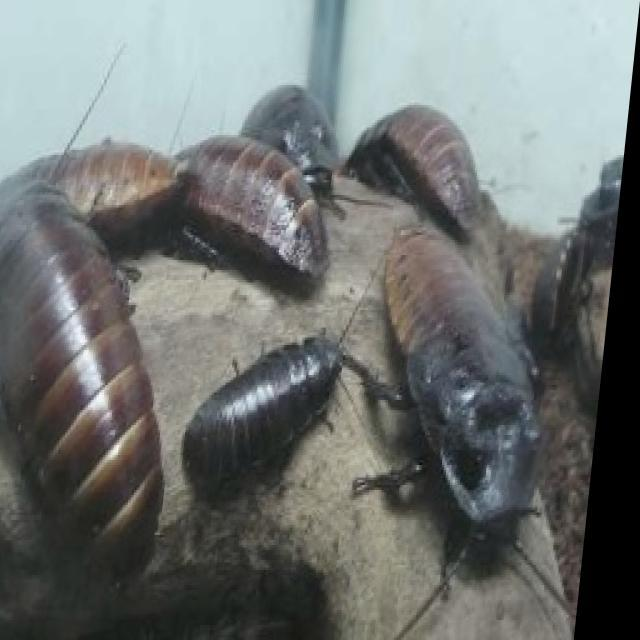cockroach: (0, 144, 176, 590), (370, 209, 553, 593), (181, 292, 362, 530), (174, 124, 345, 310), (2, 124, 194, 264), (328, 84, 506, 230)
